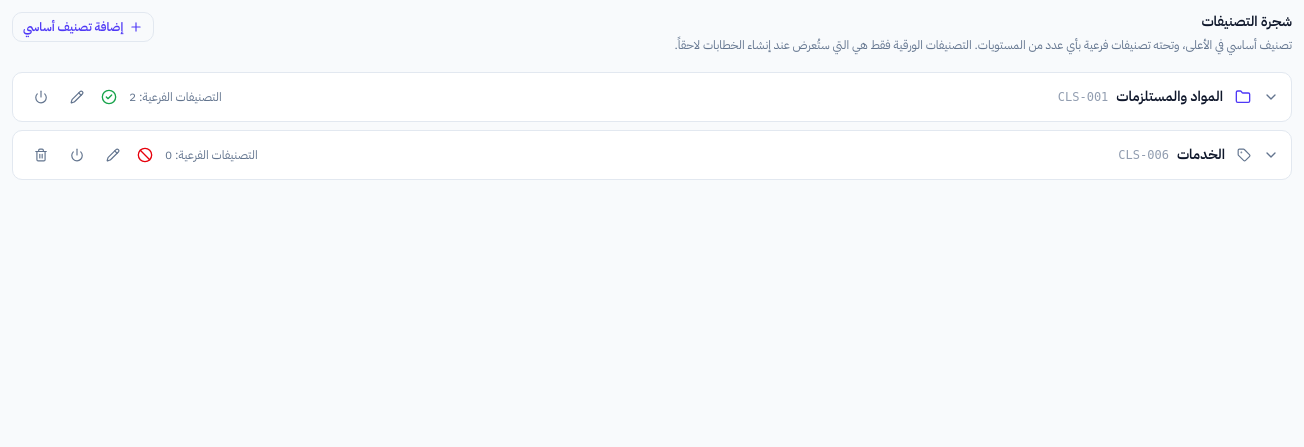
Test: Classifications — tree rendering › shows the empty note for a sub-classification without children
Click the button "المواد والمستلزمات CLS-001 التصنيفات الفرعية: 2" at (1170, 96), box x1=101 y1=86 x2=1279 y2=106
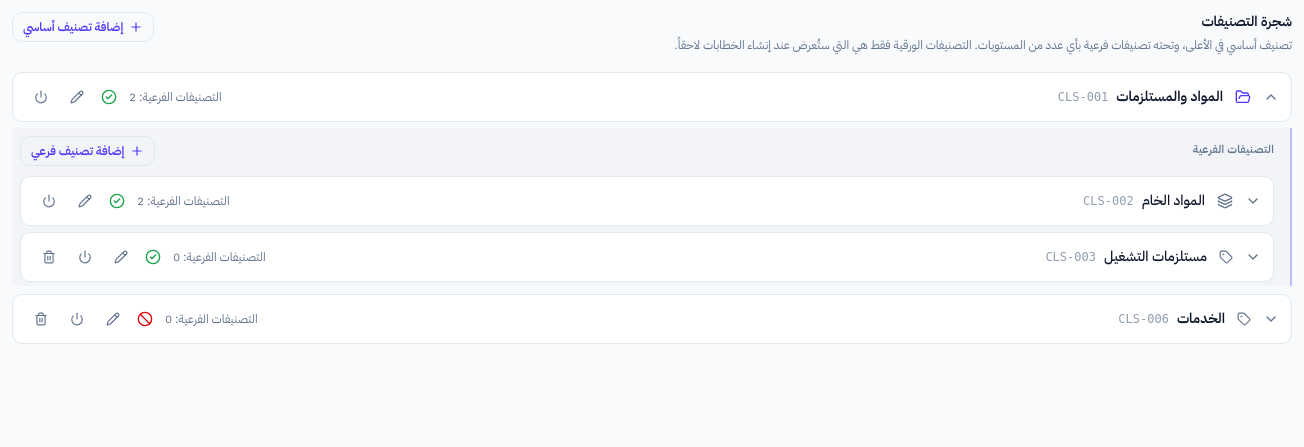
Click the button "مستلزمات التشغيل CLS-003 التصنيفات الفرعية: 0" at (1155, 256), box x1=145 y1=246 x2=1261 y2=266
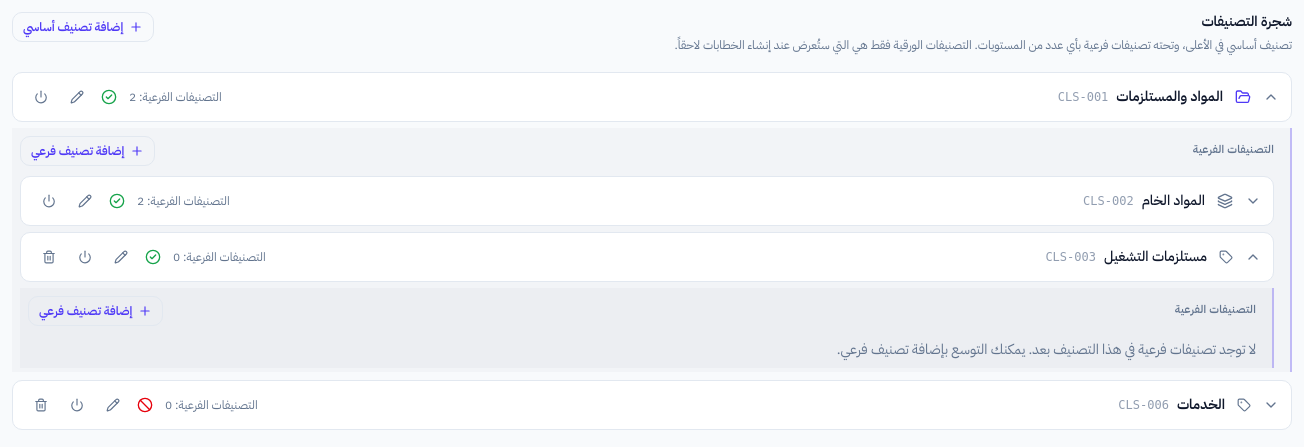
Check: the text "لا توجد تصنيفات فرعية في هذا التصنيف بعد. يمكنك التوسع بإضافة تصنيف فرعي." is shown, box x1=837 y1=338 x2=1256 y2=360
